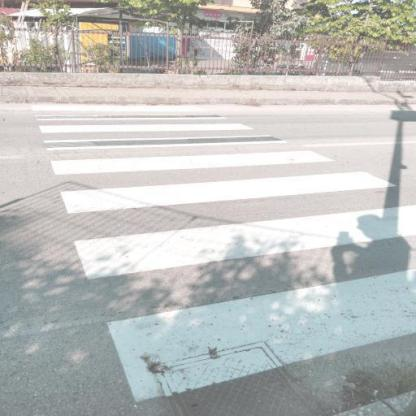crosswalk: (41, 148, 404, 218), (28, 104, 234, 125)
